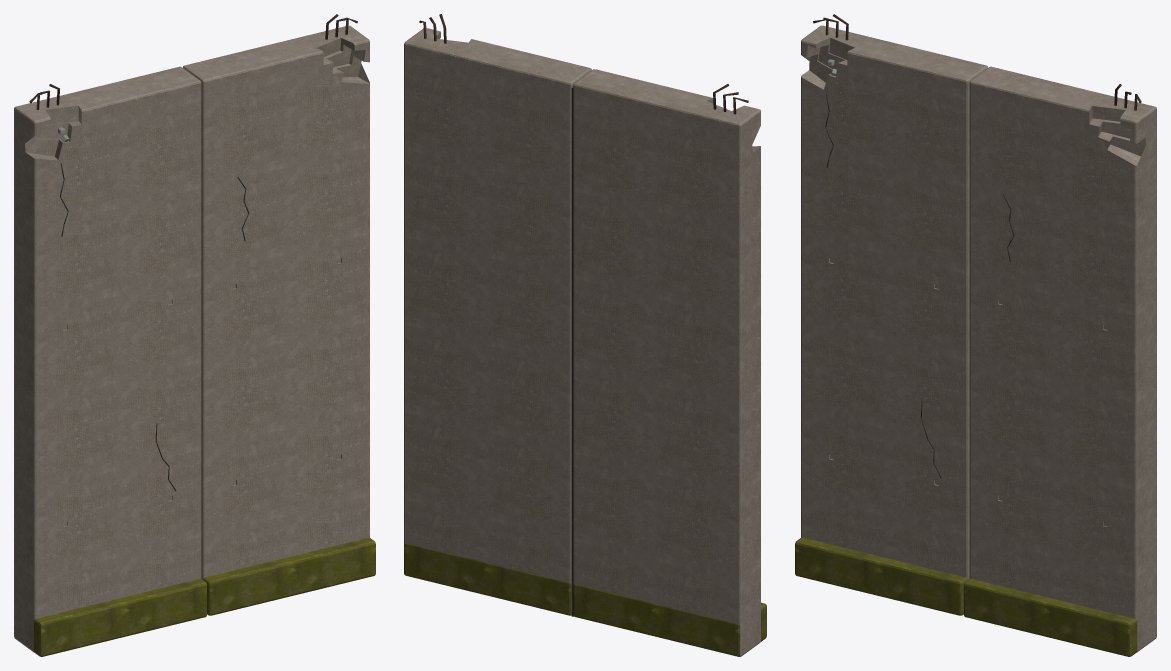
Rendered from f3_retaining_wall.glb.
3 renders of one model, left to right at view 1: azimuth 30°, elevation 25°; view 2: azimuth 150°, elevation 25°; view 3: azimuth 330°, elevation 25°, orthographic.
Parts seen in each view (by area): view 1: f3_weathered_concrete_surface, f3_damp_concrete_surface; view 2: f3_weathered_concrete_surface, f3_damp_concrete_surface, f3_deep_crack_surface, f3_oxidized_iron_surface; view 3: f3_weathered_concrete_surface, f3_damp_concrete_surface.
Part boxes in pixels (x1,y1,x2,y2): f3_weathered_concrete_surface: (14, 25, 369, 652); f3_damp_concrete_surface: (33, 537, 375, 656); f3_weathered_concrete_surface: (404, 28, 760, 656); f3_damp_concrete_surface: (404, 542, 766, 656); f3_deep_crack_surface: (571, 87, 573, 616); f3_oxidized_iron_surface: (419, 14, 748, 114); f3_weathered_concrete_surface: (801, 25, 1156, 652); f3_damp_concrete_surface: (795, 537, 1137, 656).
Bounding box in the file's own units: 4.04 × 6.39 × 0.57.
5 materials, 5 textured.
